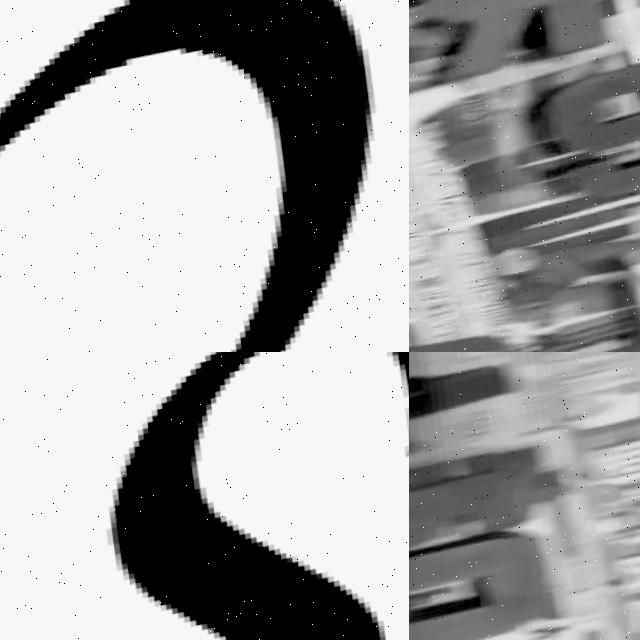C: (0, 0, 370, 352)
K: (409, 0, 607, 93)
S: (0, 352, 409, 640), (409, 467, 538, 640), (539, 57, 640, 217)
